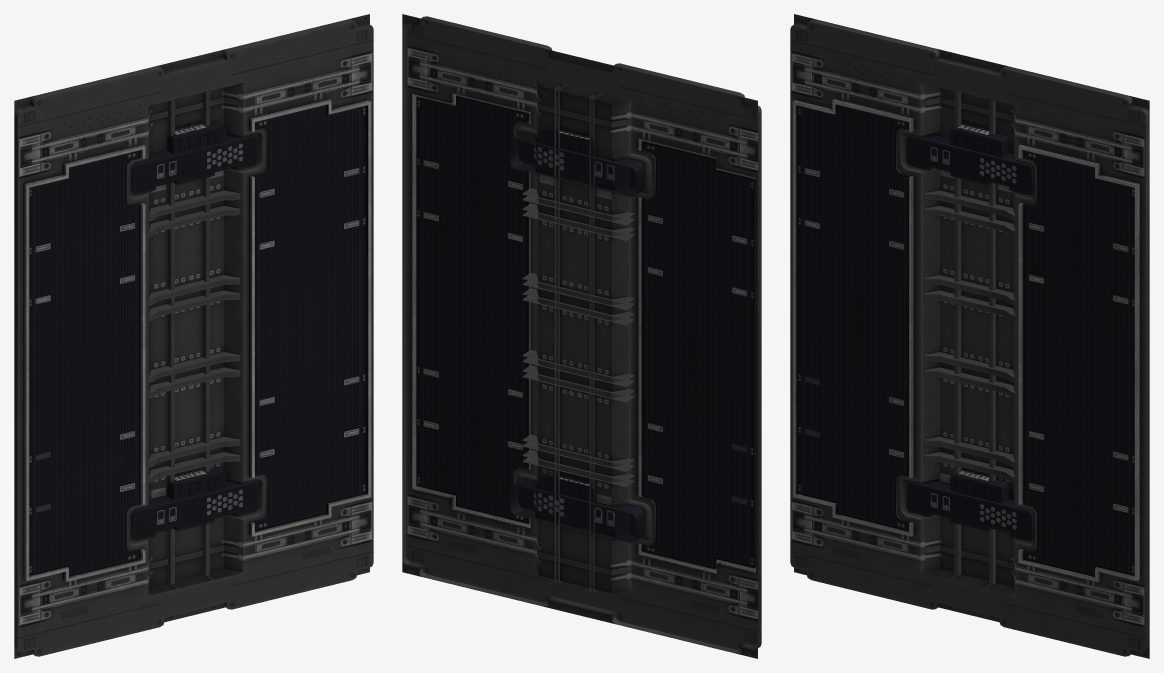
File: Panel_C_2x3_1.FBX
3 views of the same model, side by side, from view 1: azimuth 30°, elevation 25°; view 2: azimuth 150°, elevation 25°; view 3: azimuth 330°, elevation 25° (orthographic).
Visible parts, largest first — view 1: Panel_C_2x3_1; view 2: Panel_C_2x3_1; view 3: Panel_C_2x3_1.
Boxes of the visible parts, x1,y1,x2,y2 form: Panel_C_2x3_1: (14,14,373,658); Panel_C_2x3_1: (402,14,761,658); Panel_C_2x3_1: (790,14,1149,658).
Bounding box in the file's own units: 200 × 300 × 13.05.
